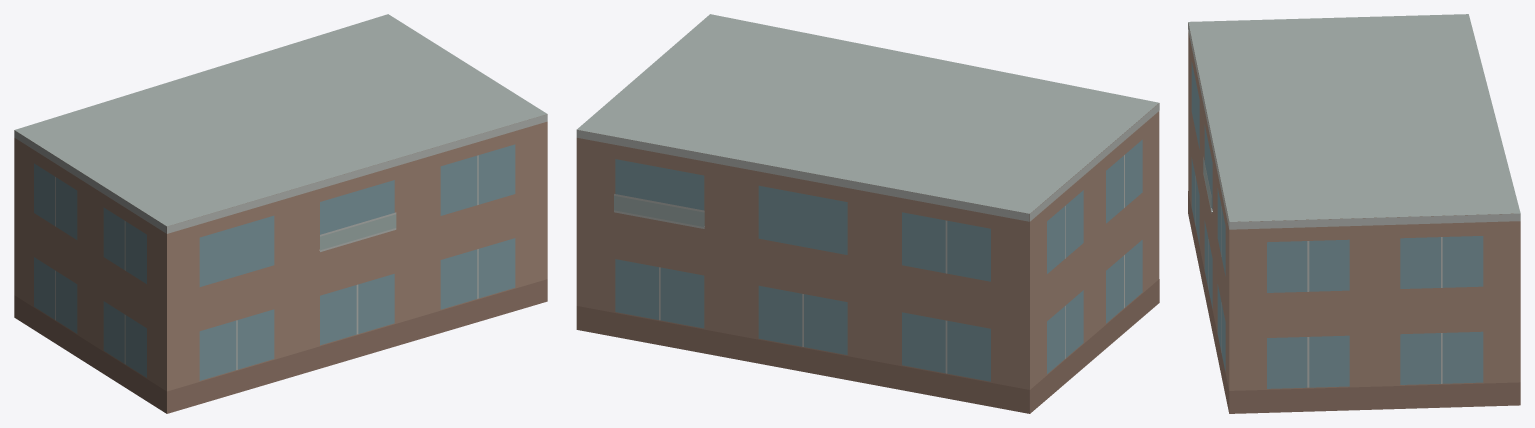
Rendered from survey-upis-32758362.glb.
The picture shows the model from 3 angles, left to right: view 1: azimuth 30°, elevation 25°; view 2: azimuth 150°, elevation 25°; view 3: azimuth 270°, elevation 25°; orthographic projection. The views are drawn at different scales.
Visible parts, largest first — view 1: survey-upis-32758362.tmp; view 2: survey-upis-32758362.tmp; view 3: survey-upis-32758362.tmp.
Part boxes in pixels (left/top/right/bottom): survey-upis-32758362.tmp: left=14, top=14, right=547, bottom=413; survey-upis-32758362.tmp: left=576, top=14, right=1159, bottom=413; survey-upis-32758362.tmp: left=1188, top=14, right=1520, bottom=413.
Size of the model in its own units: 14.2 by 6.1 by 9.59.
